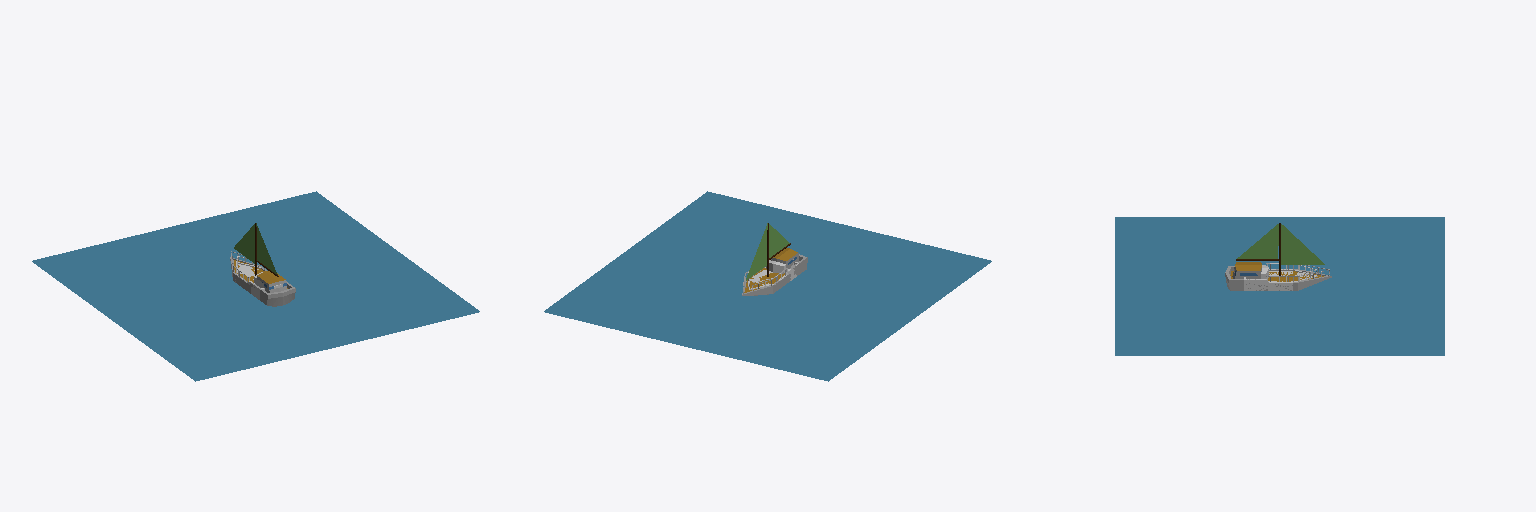
File: Boteobj.obj
3 views of the same model, side by side, from view 1: azimuth 30°, elevation 25°; view 2: azimuth 150°, elevation 25°; view 3: azimuth 270°, elevation 25° (orthographic).
Visible parts, largest first — view 1: Plane.017_Plane.015, Plane.015_Plane.013, Cylinder.004; view 2: Plane.017_Plane.015, Plane.015_Plane.013, Cylinder.004; view 3: Plane.017_Plane.015, Cylinder.004, Plane.015_Plane.013, Plane.016_Plane.014.
Part boxes in pixels (bbox=[...]): Plane.017_Plane.015: bbox=[32, 191, 479, 381]; Plane.015_Plane.013: bbox=[230, 251, 295, 306]; Cylinder.004: bbox=[234, 223, 277, 274]; Plane.017_Plane.015: bbox=[544, 191, 991, 381]; Plane.015_Plane.013: bbox=[742, 248, 807, 295]; Cylinder.004: bbox=[746, 223, 789, 280]; Plane.017_Plane.015: bbox=[1115, 217, 1444, 355]; Cylinder.004: bbox=[1237, 224, 1324, 264]; Plane.015_Plane.013: bbox=[1225, 262, 1331, 290]; Plane.016_Plane.014: bbox=[1244, 263, 1317, 290].
Size of the model in its own units: 34.76 by 7.67 by 34.76.